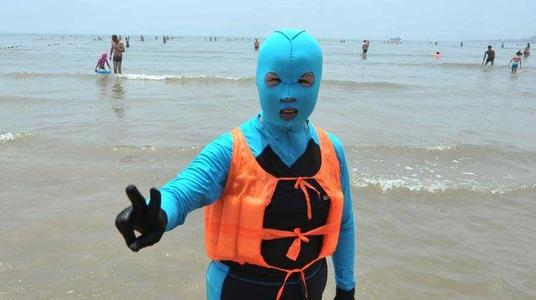other_clothes: (111, 41, 124, 58), (485, 49, 495, 61), (98, 57, 107, 69), (513, 54, 522, 66)
reflective_clothes: (200, 106, 347, 274)
